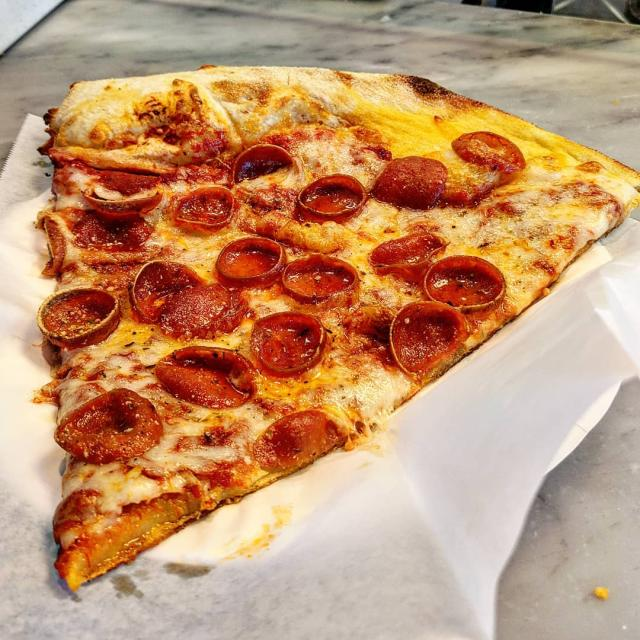pepperoni: (54, 382, 170, 468), (154, 342, 264, 410), (40, 283, 125, 355), (254, 407, 343, 471), (282, 248, 363, 316), (389, 301, 462, 376), (164, 284, 253, 344), (424, 254, 508, 314), (134, 250, 206, 320), (248, 307, 323, 373), (68, 205, 152, 263), (213, 230, 287, 295), (373, 148, 453, 207), (233, 141, 304, 205), (370, 231, 445, 287), (172, 180, 242, 236), (83, 176, 167, 220), (452, 127, 530, 174), (320, 117, 388, 165)
pizza: (28, 66, 640, 596)
